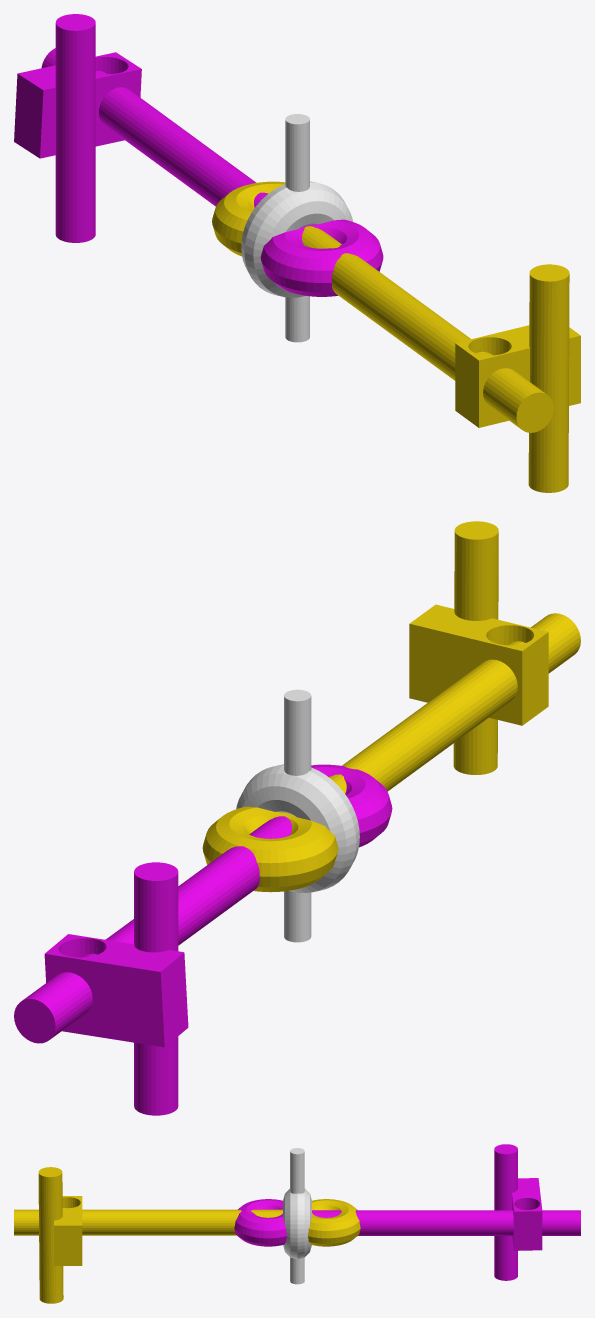
Rendered from stickman.dae.
3 views of the same model, one above another, from view 1: azimuth 30°, elevation 25°; view 2: azimuth 150°, elevation 25°; view 3: azimuth 270°, elevation 25° (orthographic). The views are drawn at different scales.
Visible parts, largest first — view 1: first_stick, second_stick, first_engine, second_engine, first_rack, second_rack, body, main_engine_part; view 2: second_stick, first_stick, first_rack, second_rack, first_engine, second_engine, body, main_engine_part; view 3: first_stick, second_stick, second_engine, first_engine, first_rack, second_rack, body, main_engine_part.
Boxes of the visible parts, x1,y1,x2,y2 form: first_stick: (41,48,383,296); second_stick: (212,181,553,432); first_engine: (55,14,95,242); second_engine: (528,264,569,492); first_rack: (14,52,141,158); second_rack: (455,325,580,427); body: (241,181,352,297); main_engine_part: (285,114,309,342); second_stick: (202,613,580,892); first_stick: (14,764,392,1043); first_rack: (44,934,188,1047); second_rack: (409,604,548,725); first_engine: (134,862,178,1115); second_engine: (453,521,498,774); body: (236,764,359,892); main_engine_part: (284,689,311,942); first_stick: (234,1199,580,1246); second_stick: (14,1199,360,1246); second_engine: (38,1167,63,1303); first_engine: (494,1144,517,1280); first_rack: (512,1178,542,1250); second_rack: (54,1196,82,1265); body: (283,1188,311,1259); main_engine_part: (290,1148,304,1284).
Size of the model in its own units: 4.99 by 25.52 by 6.88.
